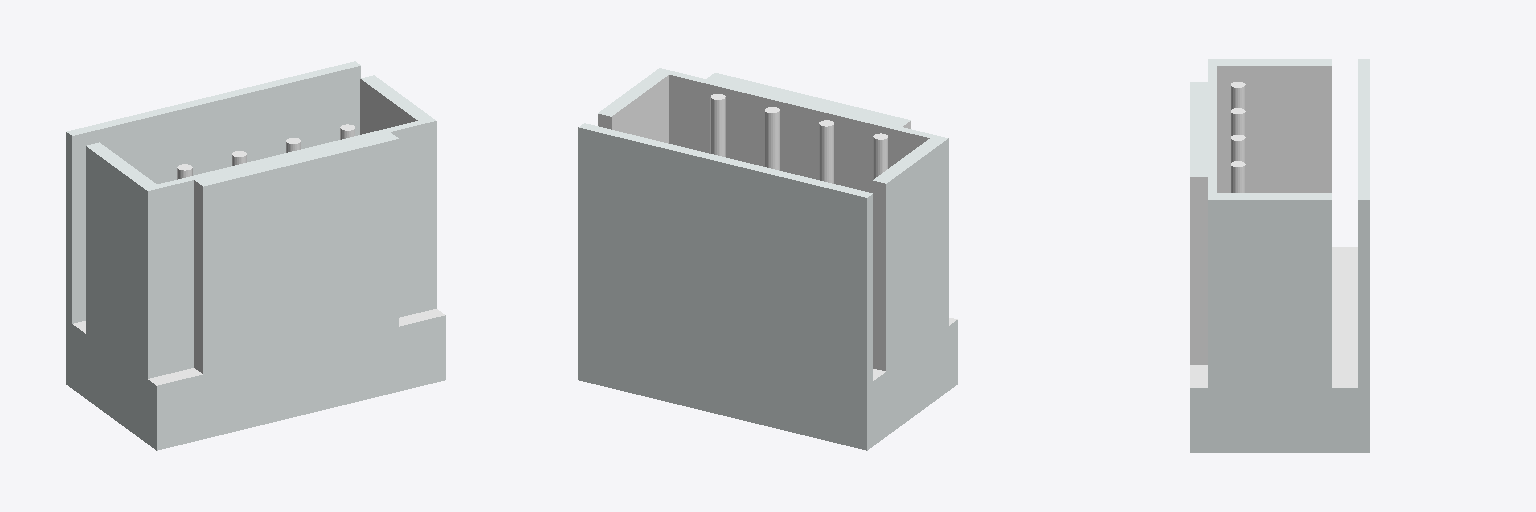
File: 4pin_con.obj
The picture shows the model from 3 angles: view 1: azimuth 30°, elevation 25°; view 2: azimuth 150°, elevation 25°; view 3: azimuth 270°, elevation 25°; orthographic projection.
Size of the model in its own units: 8.38 by 7.01 by 4.55.